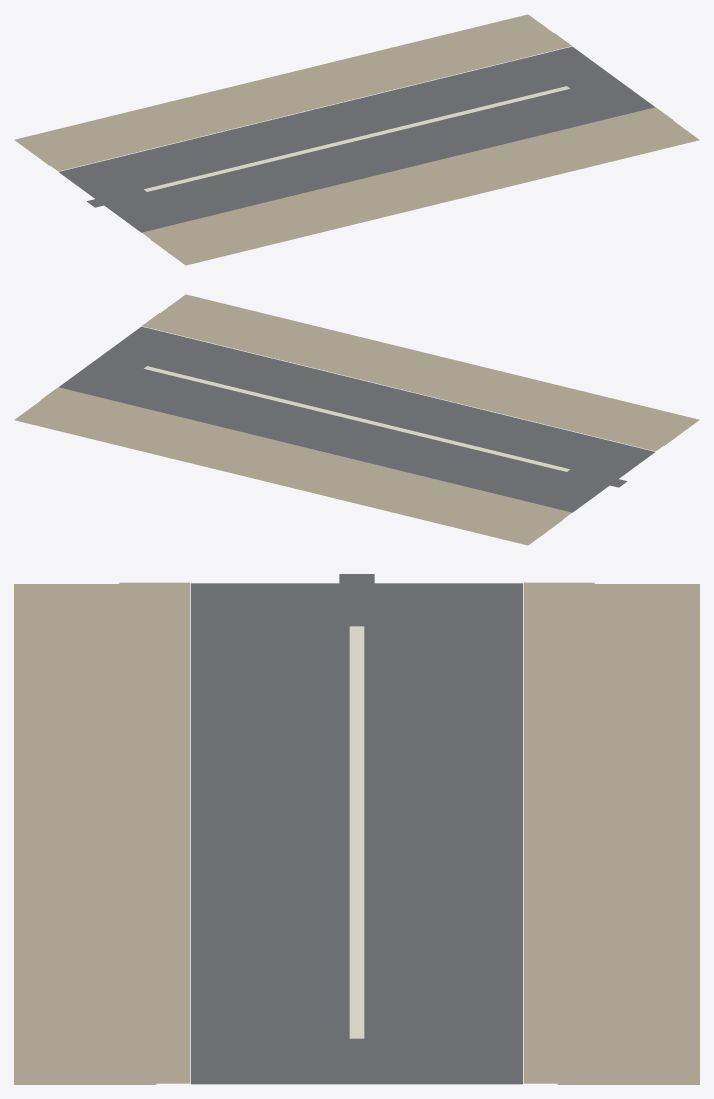
The model's file is ROAD_COASTAL_001_LOD_CLOSE.glb.
The picture shows the model from 3 angles, top to bottom: view 1: azimuth 30°, elevation 25°; view 2: azimuth 150°, elevation 25°; view 3: azimuth 270°, elevation 25°; orthographic projection. The views are drawn at different scales.
Parts seen in each view (by area): view 1: ROAD_SURFACE_COASTAL_001_LOD0_EXPORT, ROAD_SHOULDER_COASTAL_001_02_LOD0_EXPORT, ROAD_SHOULDER_COASTAL_001_01_LOD0_EXPORT, ROAD_EDGE_COASTAL_001_01_LOD0_EXPORT, ROAD_EDGE_COASTAL_001_02_LOD0_EXPORT, ROAD_MARKING_COASTAL_001_LOD0_EXPORT; view 2: ROAD_SURFACE_COASTAL_001_LOD0_EXPORT, ROAD_SHOULDER_COASTAL_001_01_LOD0_EXPORT, ROAD_SHOULDER_COASTAL_001_02_LOD0_EXPORT, ROAD_EDGE_COASTAL_001_02_LOD0_EXPORT, ROAD_EDGE_COASTAL_001_01_LOD0_EXPORT, ROAD_MARKING_COASTAL_001_LOD0_EXPORT; view 3: ROAD_SURFACE_COASTAL_001_LOD0_EXPORT, ROAD_SHOULDER_COASTAL_001_01_LOD0_EXPORT, ROAD_SHOULDER_COASTAL_001_02_LOD0_EXPORT, ROAD_EDGE_COASTAL_001_01_LOD0_EXPORT, ROAD_EDGE_COASTAL_001_02_LOD0_EXPORT, ROAD_MARKING_COASTAL_001_LOD0_EXPORT, ROAD_CONNECTOR_CURVE_001_LOD0_EXPORT.
Part boxes in pixels (box(x1,y1,x2,y2)): ROAD_SURFACE_COASTAL_001_LOD0_EXPORT: box(59, 46, 654, 232); ROAD_SHOULDER_COASTAL_001_02_LOD0_EXPORT: box(150, 120, 699, 265); ROAD_SHOULDER_COASTAL_001_01_LOD0_EXPORT: box(14, 14, 553, 165); ROAD_EDGE_COASTAL_001_01_LOD0_EXPORT: box(40, 33, 571, 171); ROAD_EDGE_COASTAL_001_02_LOD0_EXPORT: box(142, 107, 673, 245); ROAD_MARKING_COASTAL_001_LOD0_EXPORT: box(144, 86, 569, 191); ROAD_SURFACE_COASTAL_001_LOD0_EXPORT: box(59, 326, 654, 512); ROAD_SHOULDER_COASTAL_001_01_LOD0_EXPORT: box(14, 400, 563, 545); ROAD_SHOULDER_COASTAL_001_02_LOD0_EXPORT: box(160, 294, 699, 445); ROAD_EDGE_COASTAL_001_02_LOD0_EXPORT: box(142, 313, 673, 451); ROAD_EDGE_COASTAL_001_01_LOD0_EXPORT: box(40, 387, 571, 525); ROAD_MARKING_COASTAL_001_LOD0_EXPORT: box(144, 366, 569, 471); ROAD_SURFACE_COASTAL_001_LOD0_EXPORT: box(191, 583, 522, 1084); ROAD_SHOULDER_COASTAL_001_01_LOD0_EXPORT: box(557, 584, 699, 1084); ROAD_SHOULDER_COASTAL_001_02_LOD0_EXPORT: box(14, 584, 156, 1084); ROAD_EDGE_COASTAL_001_01_LOD0_EXPORT: box(523, 582, 594, 1083); ROAD_EDGE_COASTAL_001_02_LOD0_EXPORT: box(119, 582, 190, 1083); ROAD_MARKING_COASTAL_001_LOD0_EXPORT: box(349, 626, 364, 1038); ROAD_CONNECTOR_CURVE_001_LOD0_EXPORT: box(385, 1030, 454, 1064).
Size of the model in its own units: 3.46 by 0.006 by 1.97.
